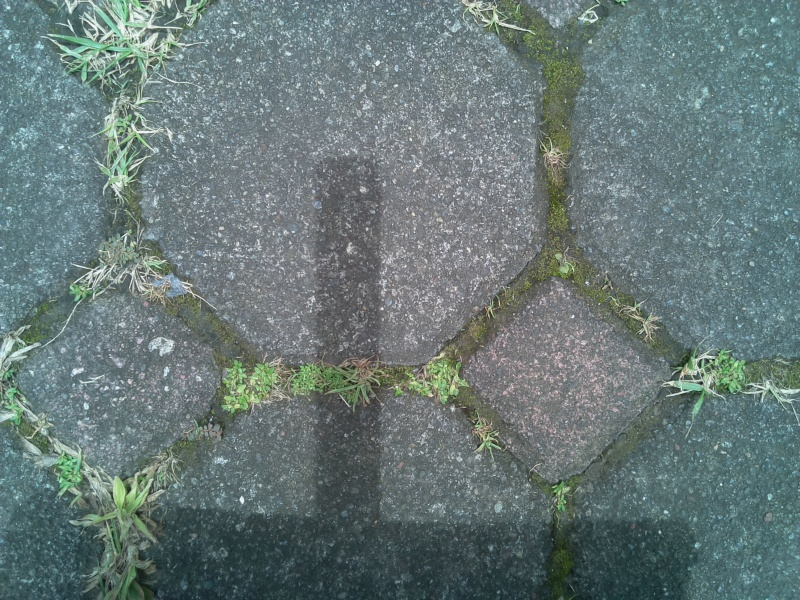Weed: (54, 1, 180, 88), (66, 231, 181, 310), (1, 318, 57, 430), (88, 465, 163, 548), (208, 345, 283, 419), (665, 341, 727, 428), (75, 543, 164, 600), (397, 347, 470, 406), (446, 2, 534, 46), (88, 146, 159, 200), (609, 286, 666, 345), (40, 439, 91, 503), (296, 348, 345, 410), (522, 135, 580, 187), (456, 417, 518, 462), (171, 412, 230, 453), (538, 471, 587, 516), (345, 357, 388, 405), (714, 349, 752, 399), (547, 243, 589, 287)
